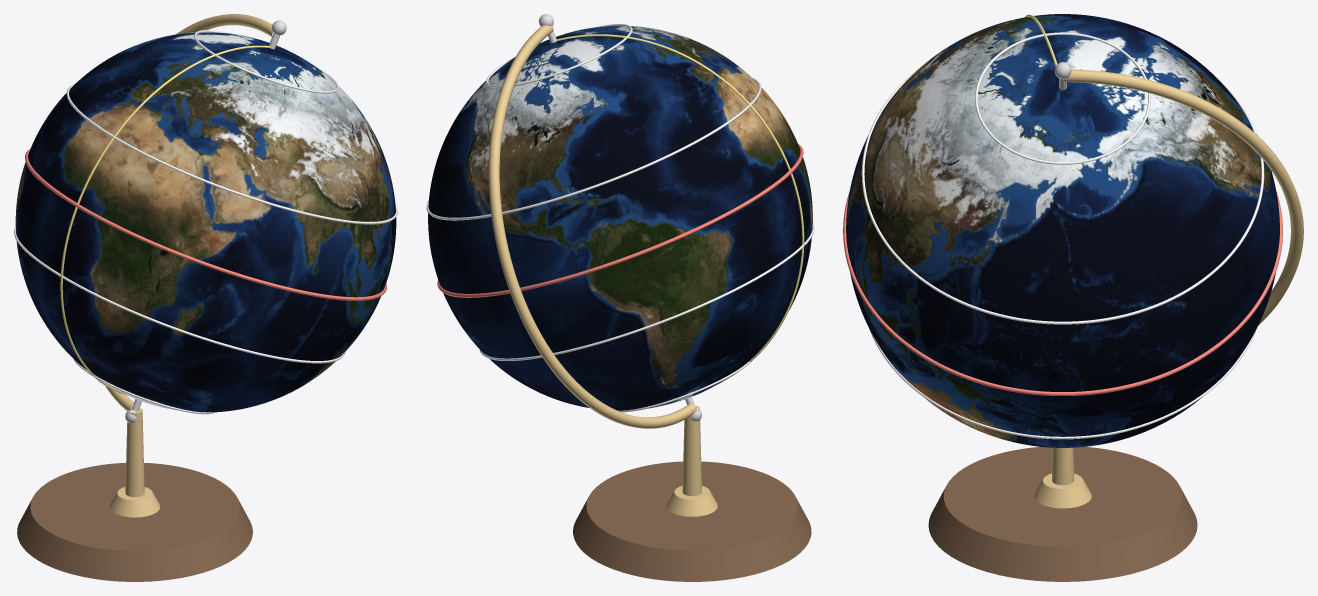
File: globe.glb
3 views of the same model, side by side, from view 1: azimuth 30°, elevation 25°; view 2: azimuth 150°, elevation 25°; view 3: azimuth 270°, elevation 25° (orthographic). The views are drawn at different scales.
Visible parts, largest first — view 1: earth, base, stand, equator, prime_meridian, meridian_ring, tropic_cancer, tropic_capricorn, arctic, axis; view 2: earth, base, meridian_ring, stand, equator, prime_meridian, tropic_cancer, tropic_capricorn, arctic; view 3: earth, base, meridian_ring, equator, tropic_cancer, stand, arctic, tropic_capricorn.
Part boxes in pixels (x1,y1,x2,y2): earth: [15, 32, 396, 412]; base: [17, 463, 252, 581]; stand: [109, 407, 160, 517]; equator: [25, 149, 386, 300]; prime_meridian: [60, 45, 270, 395]; meridian_ring: [105, 14, 272, 410]; tropic_cancer: [66, 83, 397, 224]; tropic_capricorn: [14, 227, 345, 363]; arctic: [194, 30, 338, 93]; axis: [125, 20, 286, 423]; earth: [428, 25, 812, 410]; base: [573, 461, 811, 581]; meridian_ring: [488, 25, 696, 428]; stand: [666, 405, 717, 516]; equator: [437, 144, 803, 297]; prime_meridian: [556, 34, 804, 383]; tropic_cancer: [426, 78, 761, 220]; tropic_capricorn: [479, 224, 814, 360]; arctic: [486, 23, 632, 87]; earth: [846, 14, 1279, 447]; base: [928, 446, 1197, 581]; meridian_ring: [1063, 69, 1303, 325]; equator: [843, 191, 1282, 395]; tropic_cancer: [861, 66, 1264, 324]; stand: [1034, 447, 1091, 508]; arctic: [975, 32, 1150, 164]; tropic_capricorn: [869, 328, 1256, 439].
Bounding box in the file's own units: 0.3091 × 0.4139 × 0.3185.
Materials: 11 (1 with a texture image).
